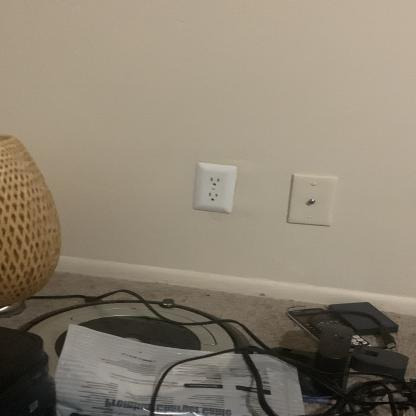OUTLET: (190, 163, 234, 212)
